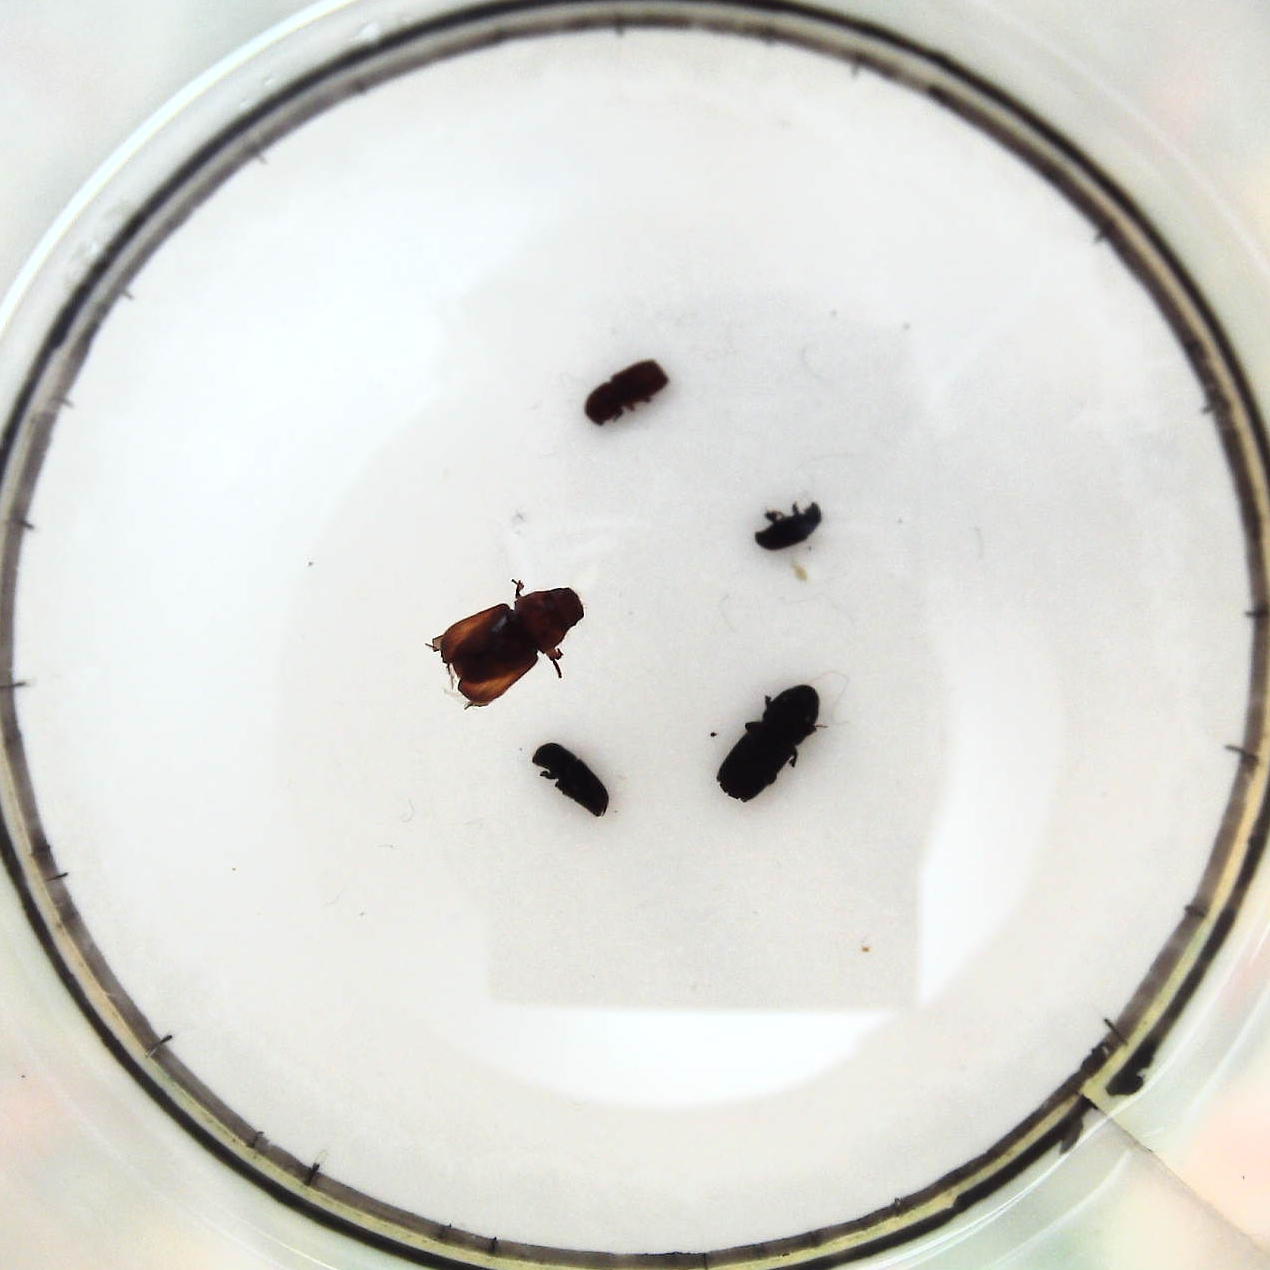Boerner: (712, 684, 819, 806)
Leconte: (430, 585, 585, 714)
Linnaeus: (585, 358, 668, 430)
armandi: (530, 743, 607, 816)
coleoptera: (752, 502, 821, 554)
